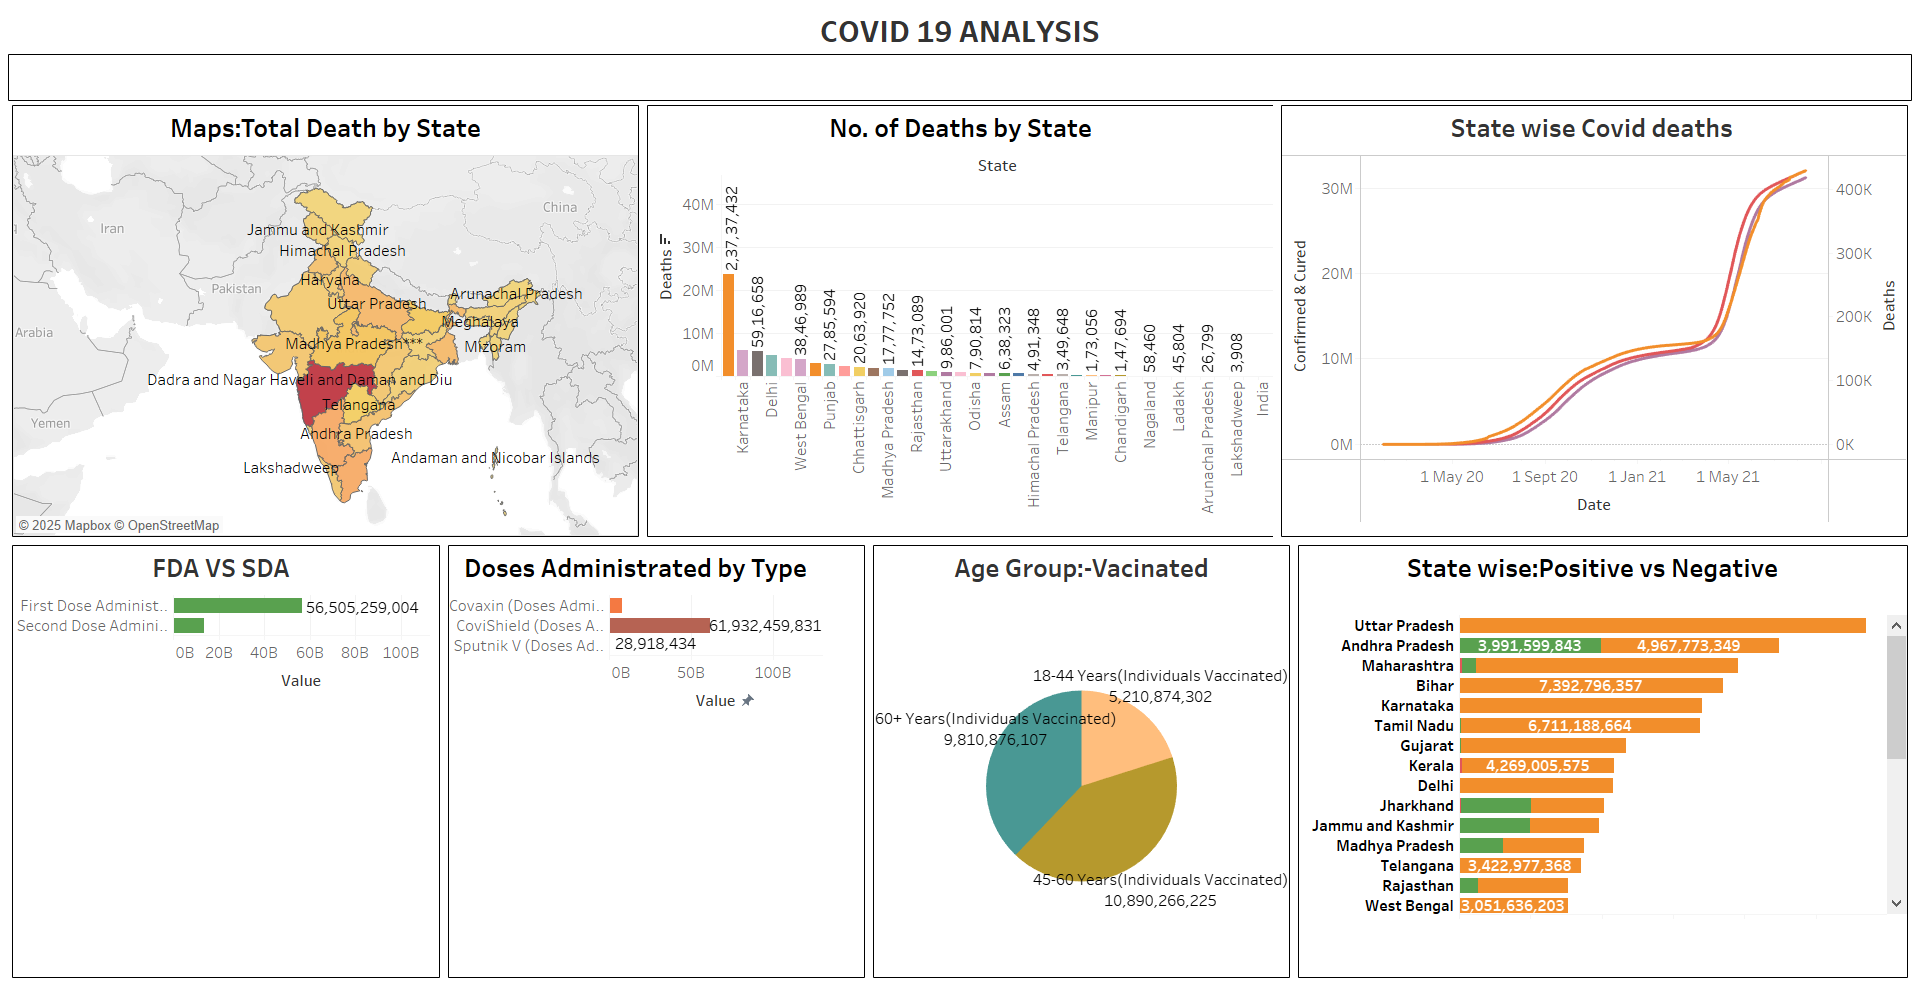

What the dashboard file says about the page in this screenshot:
{"tool":"tableau","page":{"name":"Dashboard 1","canvas":[1000,1000],"units":"permille","ordinal":0},"visuals":[{"type":"title","box":[4.8,9.9,990.3,60.4]},{"type":"worksheet","title":"Sheet 4","mark":"Automatic","box":[4.8,128.2,330.1,430.9]},{"type":"worksheet","title":"Sheet 1","mark":"Bar","rows":["Deaths"],"cols":["State"],"box":[334.9,128.2,330.1,430.9]},{"type":"worksheet","title":"Sheet 2","mark":"Line","rows":["Deaths"],"cols":["Date"],"box":[665,128.2,330.2,430.9]},{"type":"worksheet","title":"Sheet 5","mark":"Bar","box":[4.8,559.2,226.9,431]},{"type":"worksheet","title":"Sheet 7","mark":"Automatic","box":[231.7,559.2,220.9,431]},{"type":"worksheet","title":"Sheet 6","mark":"Pie","box":[452.6,559.2,220.9,431]},{"type":"worksheet","title":"Sheet 8","mark":"Automatic","rows":["State (StatewiseTestingDetails.csv)"],"box":[673.5,559.2,321.7,431]}]}

Visuals, with their boxes on the dashboard's canvas, which has no fixed pixel size, in thousandths of its width and height (x1, y1, x2, y2). These are canvas units, not pixel positions in the 1920x987 screenshot, which may show the page scaled, cropped or inside an application window:
title: [left=5, top=10, right=995, bottom=70]
"Sheet 4" worksheet: [left=5, top=128, right=335, bottom=559]
"Sheet 1" worksheet (Bar marks): [left=335, top=128, right=665, bottom=559]
"Sheet 2" worksheet (Line marks): [left=665, top=128, right=995, bottom=559]
"Sheet 5" worksheet (Bar marks): [left=5, top=559, right=232, bottom=990]
"Sheet 7" worksheet: [left=232, top=559, right=453, bottom=990]
"Sheet 6" worksheet (Pie marks): [left=453, top=559, right=674, bottom=990]
"Sheet 8" worksheet: [left=674, top=559, right=995, bottom=990]
